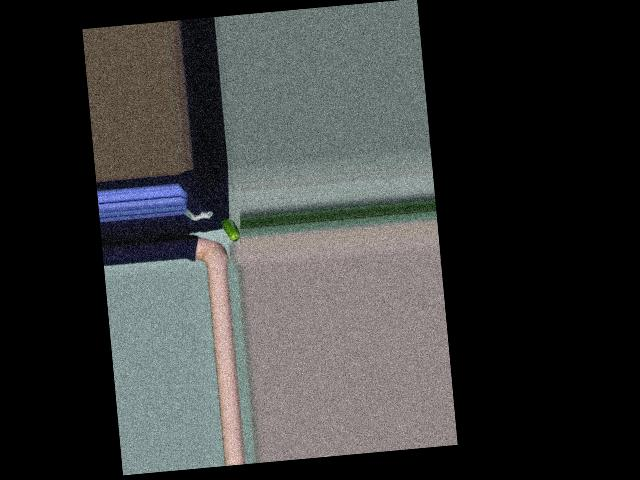cucumber: (221, 217, 241, 242)
